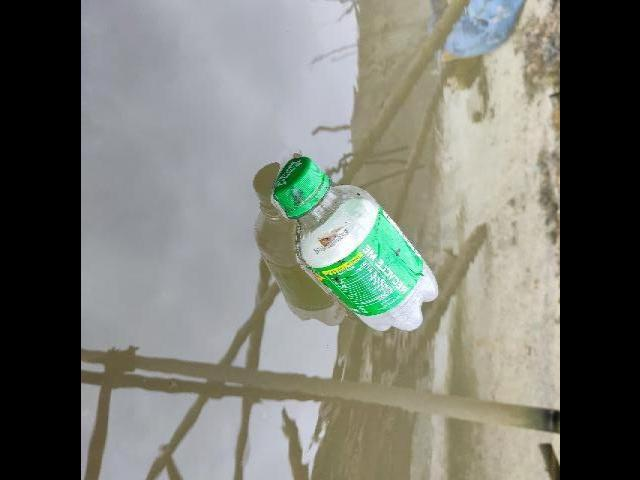Bottle: (266, 149, 442, 348)
